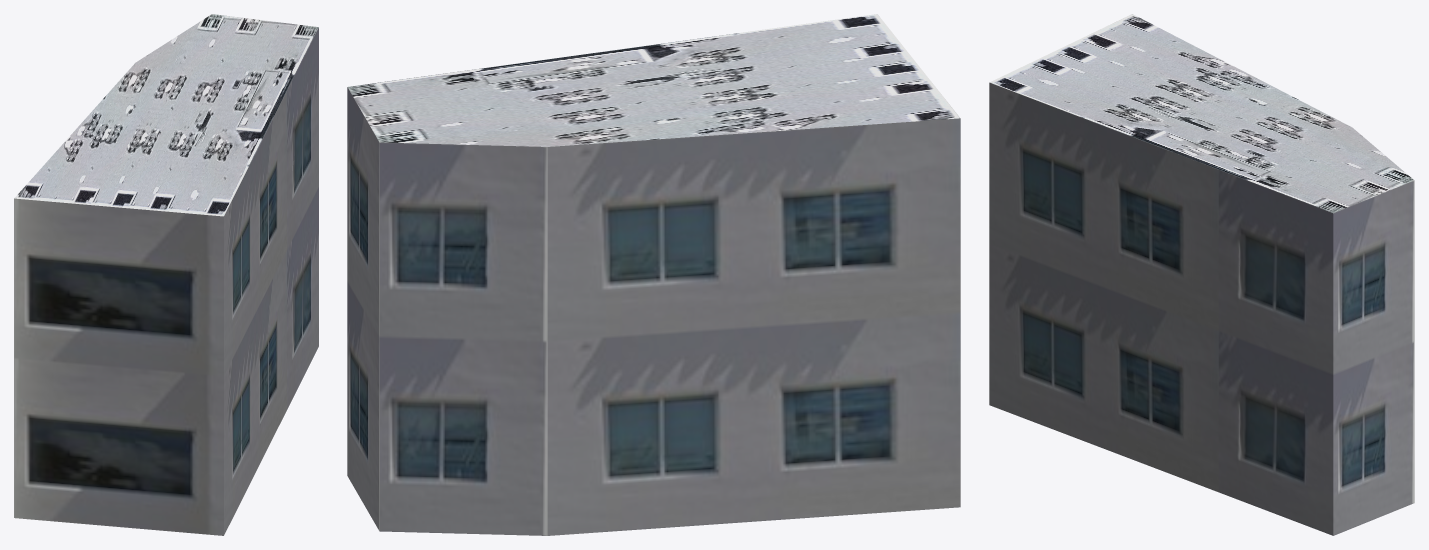
Rendered from ResTex__4213.fbx.
The picture shows the model from 3 angles, left to right: view 1: azimuth 30°, elevation 25°; view 2: azimuth 150°, elevation 25°; view 3: azimuth 270°, elevation 25°; orthographic projection. The views are drawn at different scales.
Parts seen in each view (by area): view 1: CityEngineMaterial_10_m, CityEngineMaterial_4_m; view 2: CityEngineMaterial_10_m, CityEngineMaterial_4_m; view 3: CityEngineMaterial_10_m, CityEngineMaterial_4_m.
Part boxes in pixels (box(x1,y1,x2,y2)): CityEngineMaterial_10_m: box(14, 27, 318, 535); CityEngineMaterial_4_m: box(14, 14, 318, 216); CityEngineMaterial_10_m: box(347, 87, 960, 535); CityEngineMaterial_4_m: box(347, 14, 959, 146); CityEngineMaterial_10_m: box(989, 82, 1414, 535); CityEngineMaterial_4_m: box(989, 14, 1414, 213).
Size of the model in its own units: 7.94 by 6 by 7.16.
2 materials, 2 textured.
